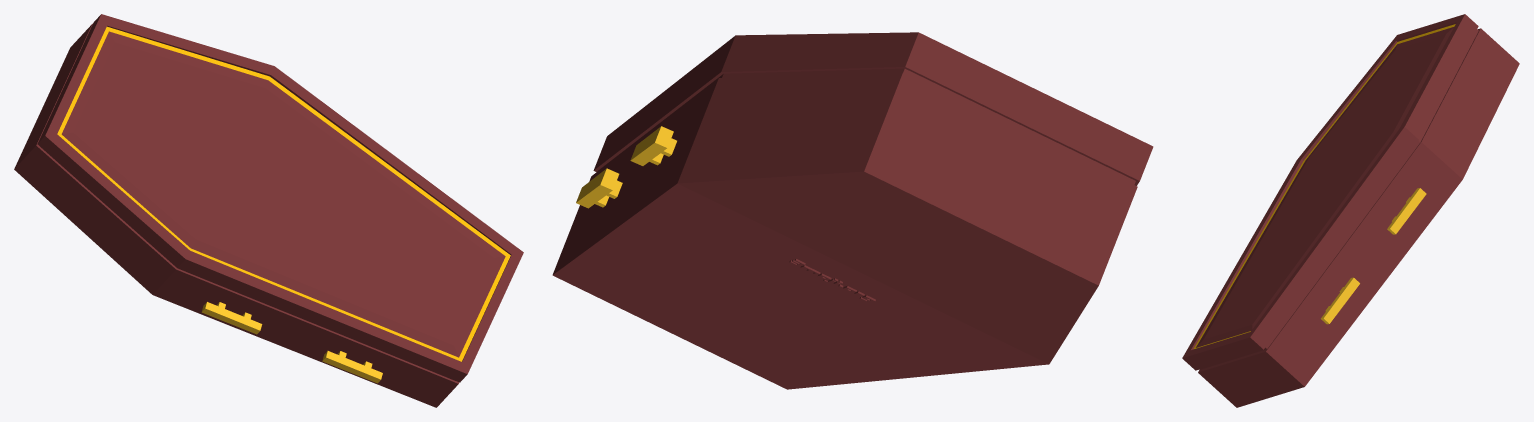
Rendered from coffin.fbx.
3 views of the same model, side by side, from view 1: azimuth 30°, elevation 25°; view 2: azimuth 150°, elevation 25°; view 3: azimuth 270°, elevation 25° (orthographic). The views are drawn at different scales.
Parts seen in each view (by area): view 1: Cube.1020; view 2: Cube.1020; view 3: Cube.1020.
Part boxes in pixels (x1,y1,x2,y2): Cube.1020: (14, 14, 523, 407); Cube.1020: (552, 32, 1153, 389); Cube.1020: (1182, 14, 1519, 407).
Size of the model in its own units: 223 by 188 by 188.
1 material, 1 textured.
